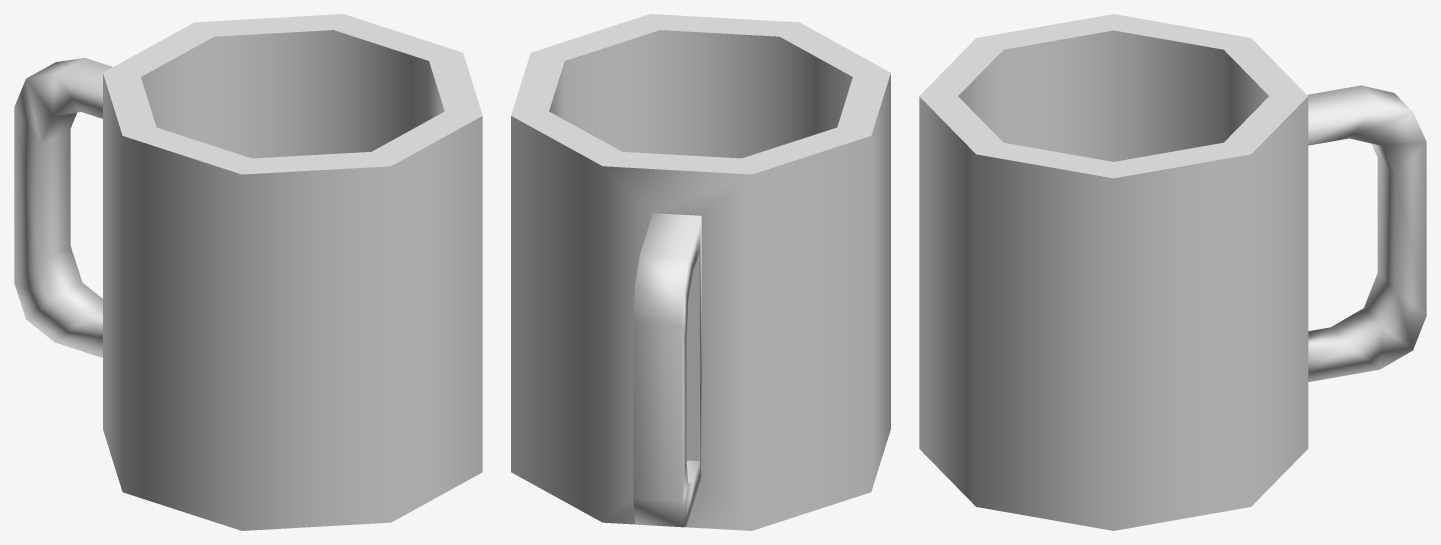
The model's file is Asset_CoffeeCup.fbx.
3 renders of one model, left to right at view 1: azimuth 30°, elevation 25°; view 2: azimuth 150°, elevation 25°; view 3: azimuth 270°, elevation 25°, orthographic.
Visible parts, largest first — view 1: Asset_CoffeeCup; view 2: Asset_CoffeeCup; view 3: Asset_CoffeeCup.
Boxes of the visible parts, bbox=[...] form: Asset_CoffeeCup: bbox=[14, 14, 482, 530]; Asset_CoffeeCup: bbox=[511, 14, 890, 530]; Asset_CoffeeCup: bbox=[919, 14, 1426, 530].
Size of the model in its own units: 16.93 by 16.93 by 22.09.
